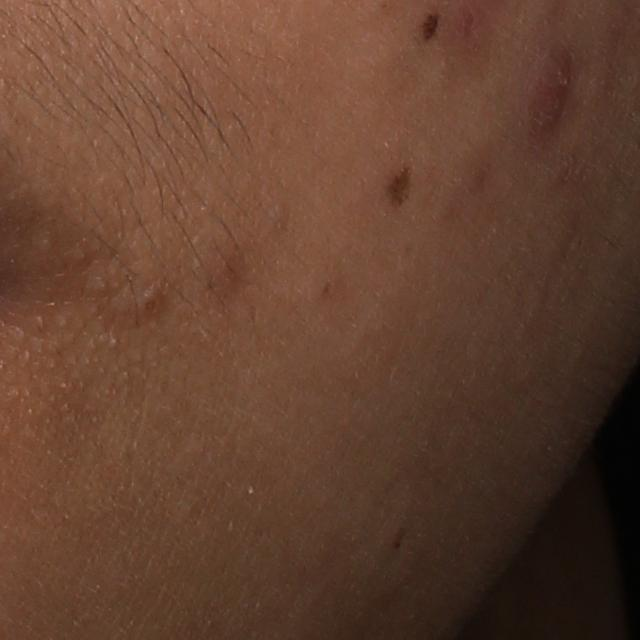comedo: (138, 287, 166, 318)
nevus: (385, 163, 416, 210), (418, 11, 440, 45)
papule: (529, 54, 570, 128)
